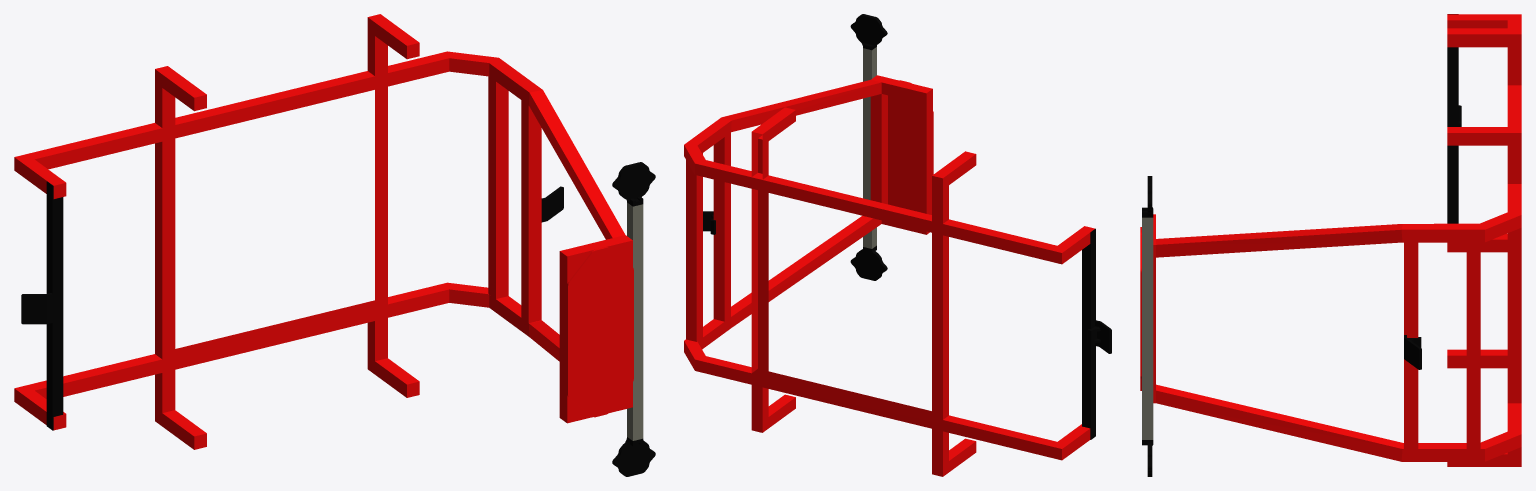
File: basket_sensors.obj
3 renders of one model, left to right at view 1: azimuth 30°, elevation 25°; view 2: azimuth 150°, elevation 25°; view 3: azimuth 270°, elevation 25°, orthographic. The views are drawn at different scales.
Visible parts, largest first — view 1: basket_chassis, basket_chassis_back_bar, gnss_antenna_ann_mb_00_support_bar, ublox_antenna_ann_mb_00_support_simplified_left, ublox_antenna_ann_mb_00_suport_simplified_right, livox_360_rear_support_simplified; view 2: basket_chassis, basket_chassis_back_bar, gnss_antenna_ann_mb_00_support_bar, ublox_antenna_ann_mb_00_support_simplified_left, ublox_antenna_ann_mb_00_suport_simplified_right, livox_360_rear_support_simplified; view 3: basket_chassis, gnss_antenna_ann_mb_00_support_bar, basket_chassis_back_bar, livox_360_front_support_simplified.
Part boxes in pixels (x1,y1,x2,y2): basket_chassis: (14,14,633,449); basket_chassis_back_bar: (46,181,63,430); gnss_antenna_ann_mb_00_support_bar: (627,202,643,440); ublox_antenna_ann_mb_00_support_simplified_left: (612,162,655,206); ublox_antenna_ann_mb_00_suport_simplified_right: (612,437,655,476); livox_360_rear_support_simplified: (21,293,52,324); basket_chassis: (684,75,1094,476); basket_chassis_back_bar: (1082,228,1095,439); gnss_antenna_ann_mb_00_support_bar: (863,47,876,248); ublox_antenna_ann_mb_00_support_simplified_left: (850,14,887,50); ublox_antenna_ann_mb_00_suport_simplified_right: (850,245,887,280); livox_360_rear_support_simplified: (1087,320,1111,353); basket_chassis: (1140,14,1521,466); gnss_antenna_ann_mb_00_support_bar: (1142,217,1153,439); basket_chassis_back_bar: (1447,14,1458,223); livox_360_front_support_simplified: (1404,335,1421,369).
Size of the model in its own units: 1.02 by 0.655 by 0.678.
